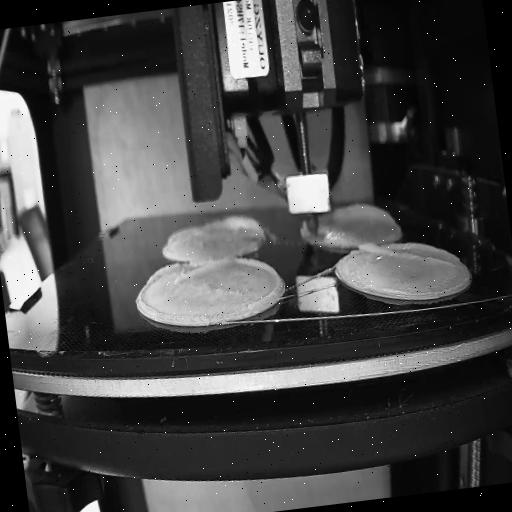over_extrusion: (356, 230, 454, 280), (234, 251, 284, 312), (146, 254, 236, 287), (334, 202, 396, 232), (211, 212, 265, 243), (166, 228, 192, 248)
